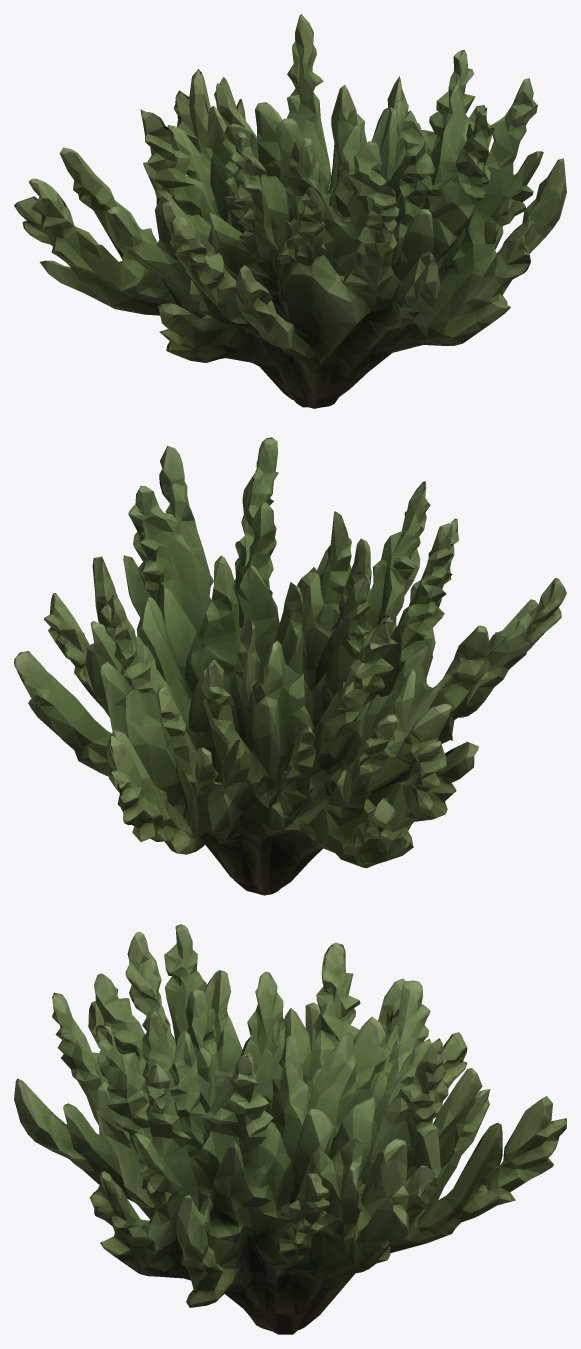
Rendered from fern_cluster.glb.
The picture shows the model from 3 angles, top to bottom: view 1: azimuth 30°, elevation 25°; view 2: azimuth 150°, elevation 25°; view 3: azimuth 270°, elevation 25°; orthographic projection. The views are drawn at different scales.
Parts seen in each view (by area): view 1: world; view 2: world; view 3: world.
Boxes of the visible parts, x1,y1,x2,y2 form: world: [14, 14, 566, 408]; world: [14, 437, 566, 895]; world: [14, 924, 566, 1334].
Size of the model in its own units: 0.9197 by 0.6843 by 0.9989.
Materials: 1 (1 with a texture image).
